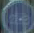bike lane: (1, 0, 32, 32)
